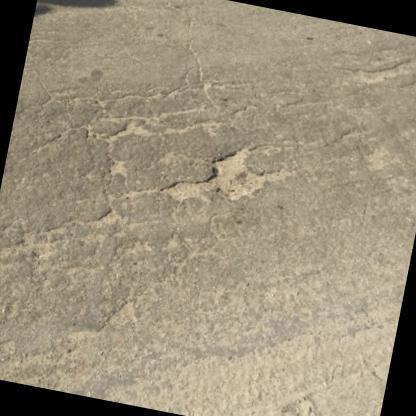pothole: (165, 146, 287, 204)
